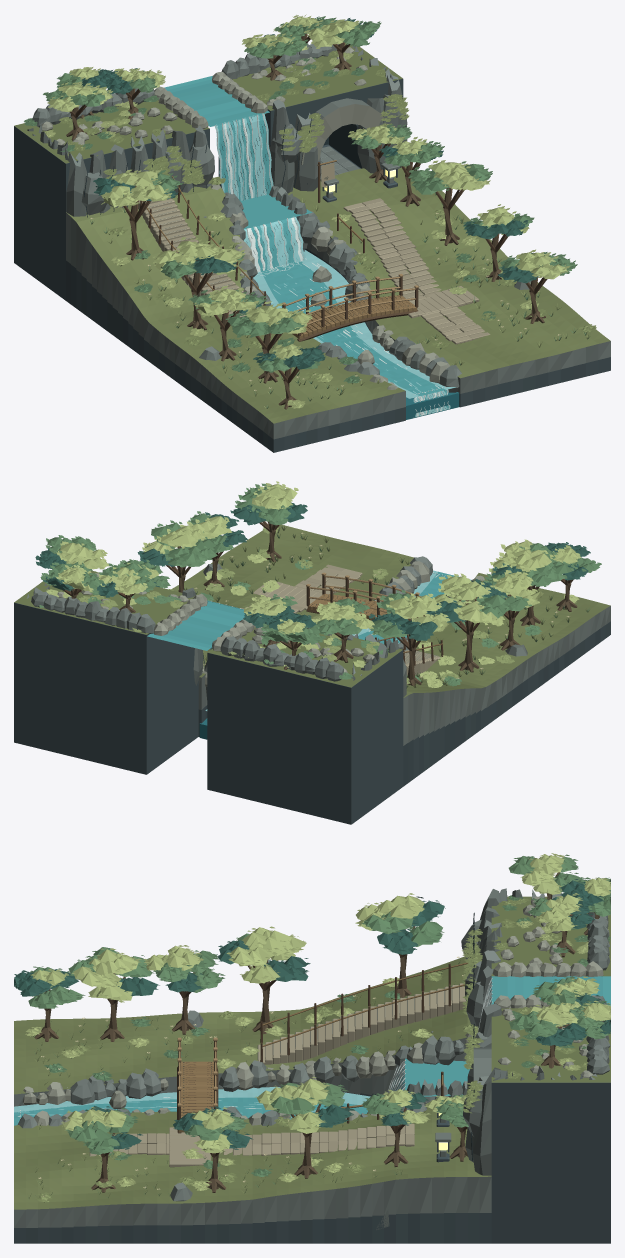
Rendered from back_mountain.glb.
The picture shows the model from 3 angles, top to bottom: view 1: azimuth 30°, elevation 25°; view 2: azimuth 150°, elevation 25°; view 3: azimuth 270°, elevation 25°; orthographic projection. The views are drawn at different scales.
Parts seen in each view (by area): view 1: terrain_landform_matte, rocks_nature_matte, undergrowth_nature_foliage, stream_water_water, waterfall_water_water, tree_ridge_nature_foliage, path_routes_matte, tree_west_nature_foliage, tree_east_nature_foliage, tree_front_nature_foliage, cave_cave_matte, bridge_routes_matte (+9 smaller); view 2: terrain_landform_matte, tree_ridge_nature_foliage, rocks_nature_matte, tree_west_nature_foliage, undergrowth_nature_foliage, tree_front_nature_foliage, tree_east_nature_foliage, stream_water_water, path_routes_matte, bridge_routes_matte, tree_west_nature_matte, tree_front_nature_matte (+3 smaller); view 3: terrain_landform_matte, rocks_nature_matte, undergrowth_nature_foliage, tree_ridge_nature_foliage, tree_west_nature_foliage, tree_east_nature_foliage, tree_front_nature_foliage, path_routes_matte, stairs_routes_matte, stream_water_water, bridge_routes_matte, railing_routes_matte (+6 smaller).
Part boxes in pixels (<box>): terrain_landform_matte: <box>14,43,610,452</box>; rocks_nature_matte: <box>27,43,531,392</box>; undergrowth_nature_foliage: <box>24,50,596,408</box>; stream_water_water: <box>164,76,456,398</box>; waterfall_water_water: <box>214,113,450,416</box>; tree_ridge_nature_foliage: <box>43,14,381,112</box>; path_routes_matte: <box>343,198,490,344</box>; tree_west_nature_foliage: <box>93,168,267,317</box>; tree_east_nature_foliage: <box>348,123,534,239</box>; tree_front_nature_foliage: <box>225,249,577,372</box>; cave_cave_matte: <box>293,98,392,191</box>; bridge_routes_matte: <box>282,273,418,341</box>; terrain_landform_matte: <box>14,524,610,824</box>; tree_ridge_nature_foliage: <box>35,535,374,644</box>; rocks_nature_matte: <box>26,556,527,699</box>; tree_west_nature_foliage: <box>368,570,543,640</box>; undergrowth_nature_foliage: <box>36,525,589,688</box>; tree_front_nature_foliage: <box>230,481,601,586</box>; tree_east_nature_foliage: <box>118,511,247,588</box>; stream_water_water: <box>147,570,471,710</box>; path_routes_matte: <box>239,564,362,613</box>; bridge_routes_matte: <box>306,572,425,620</box>; tree_west_nature_matte: <box>396,592,520,686</box>; tree_front_nature_matte: <box>259,521,577,625</box>; terrain_landform_matte: <box>14,889,610,1243</box>; rocks_nature_matte: <box>17,888,610,1229</box>; undergrowth_nature_foliage: <box>25,895,610,1202</box>; tree_ridge_nature_foliage: <box>508,853,610,1046</box>; tree_west_nature_foliage: <box>143,893,445,992</box>; tree_east_nature_foliage: <box>173,1076,468,1153</box>; tree_front_nature_foliage: <box>14,947,159,1154</box>; path_routes_matte: <box>89,1123,414,1167</box>; stairs_routes_matte: <box>257,983,465,1064</box>; stream_water_water: <box>14,976,610,1125</box>; bridge_routes_matte: <box>177,1037,218,1133</box>; railing_routes_matte: <box>260,962,467,1123</box>.
Size of the model in its own units: 15 by 8 by 20.
